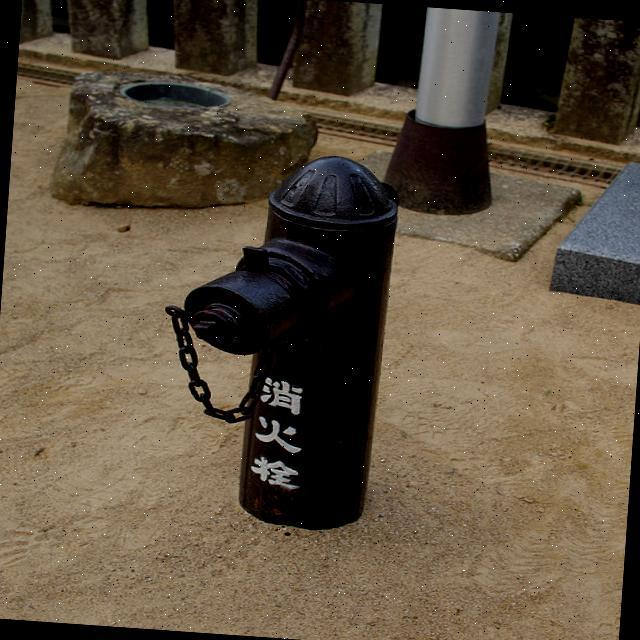fire_hydrant: (167, 146, 402, 534)
